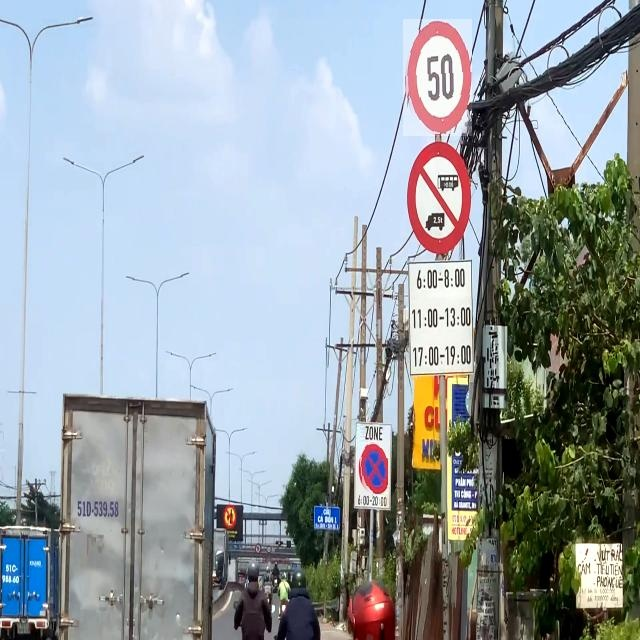bien_cam: (403, 19, 472, 136), (358, 442, 388, 494)
